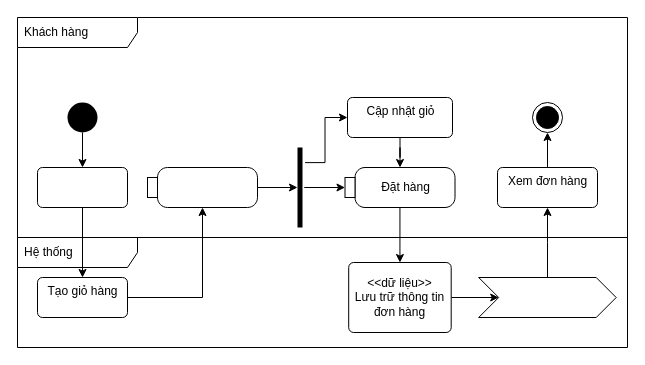
Image size: 645x365. Some labels were removed from this diagram. The shapes that lost their labels are listed below. From the top down, each one's centre as x and y in pixels, then its label:
At [82,187]: "Truy cập cửa hàng".
At [202,187]: "Thêm vào giỏ".
At [547,297]: "Tạo thông báo".
